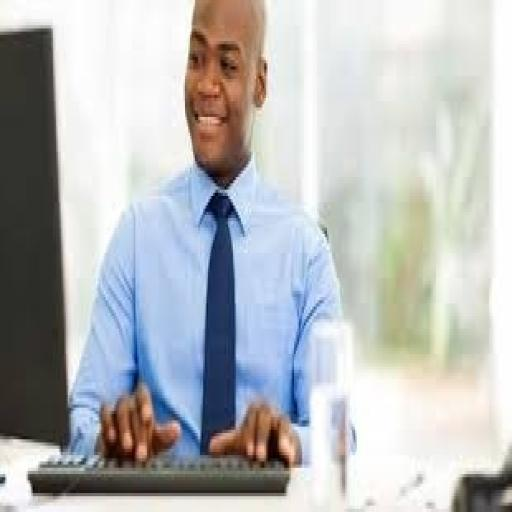sitting: (66, 0, 355, 471)
